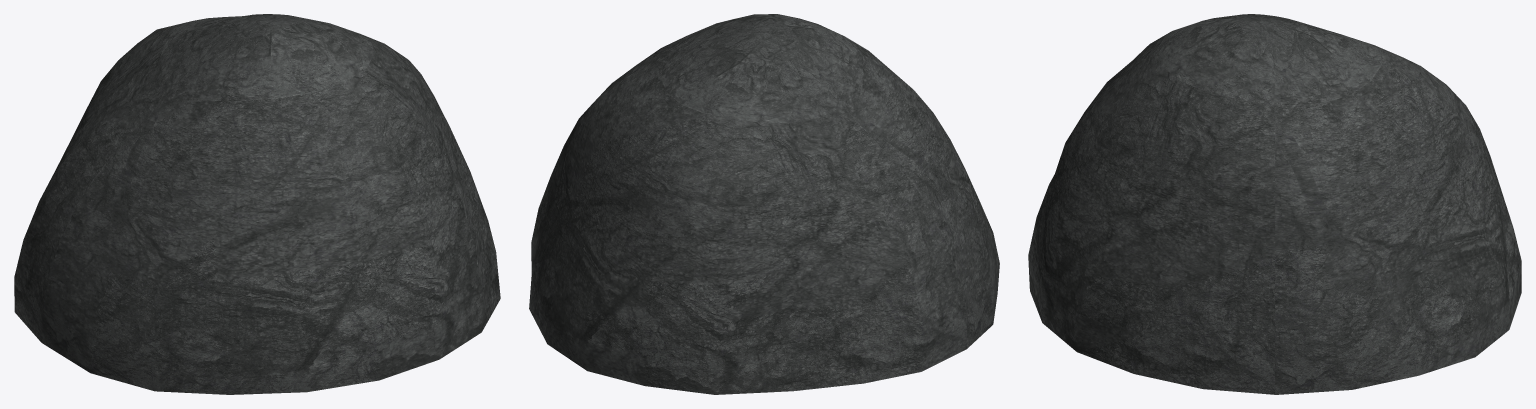
Rendered from MiningNode.fbx.
3 renders of one model, left to right at view 1: azimuth 30°, elevation 25°; view 2: azimuth 150°, elevation 25°; view 3: azimuth 270°, elevation 25°, orthographic. The views are drawn at different scales.
Visible parts, largest first — view 1: MiningNode; view 2: MiningNode; view 3: MiningNode.
Boxes of the visible parts, x1,y1,x2,y2 form: MiningNode: (14, 14, 500, 394); MiningNode: (529, 14, 999, 394); MiningNode: (1028, 14, 1521, 394).
Size of the model in its own units: 1.69 by 1.06 by 1.69.
1 material, 1 textured.
